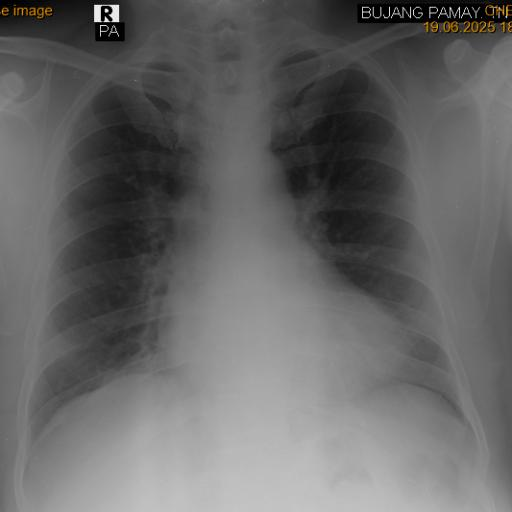kardiomegali: (16, 18, 484, 458)
